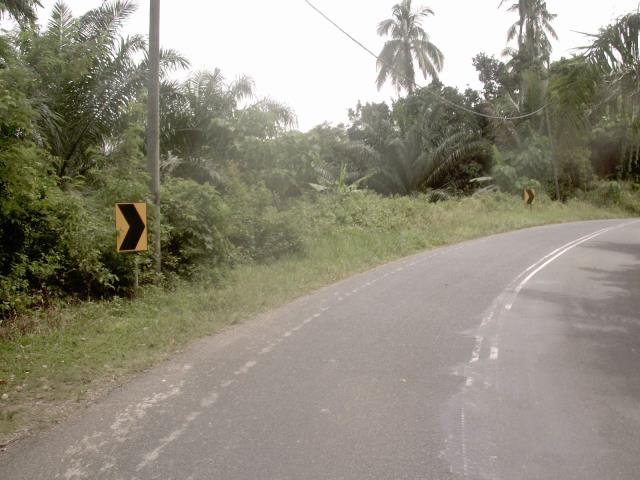traffic_sign: (105, 196, 156, 261)
